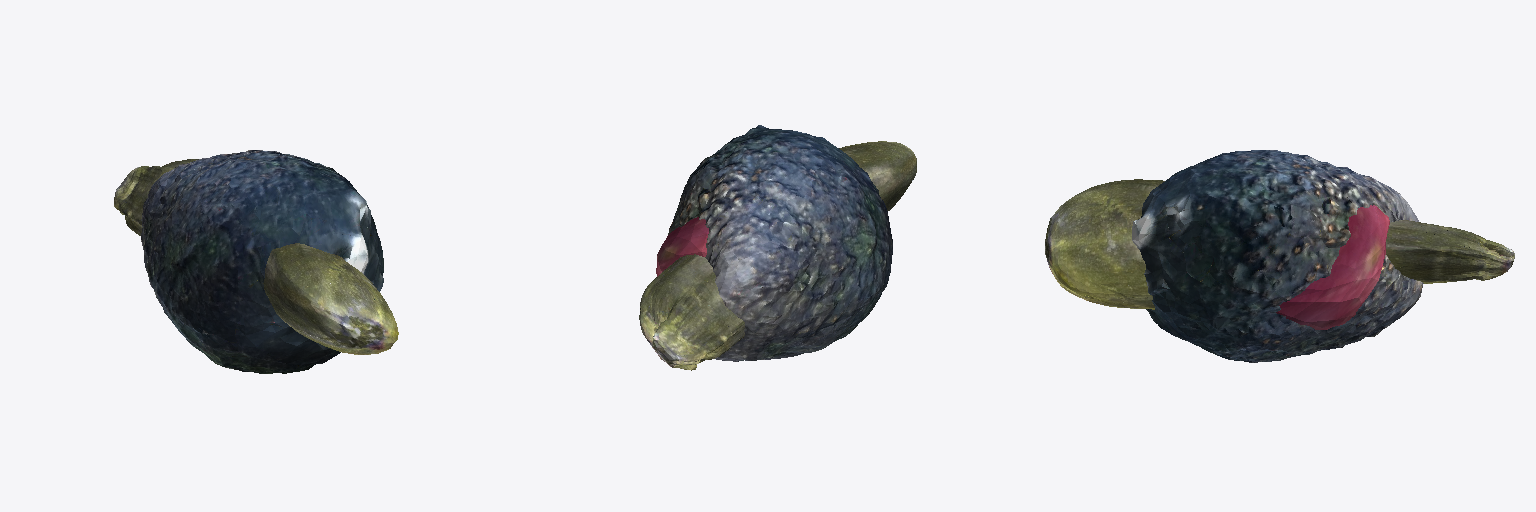
The picture shows the model from 3 angles: view 1: azimuth 30°, elevation 25°; view 2: azimuth 150°, elevation 25°; view 3: azimuth 270°, elevation 25°; orthographic projection.
Parts seen in each view (by area): view 1: Grilled_Red_potato_avocado; view 2: Grilled_Red_potato_avocado; view 3: Grilled_Red_potato_avocado.
Boxes of the visible parts, x1,y1,x2,y2 form: Grilled_Red_potato_avocado: [114, 150, 398, 373]; Grilled_Red_potato_avocado: [639, 125, 916, 370]; Grilled_Red_potato_avocado: [1045, 150, 1514, 362].
Bounding box in the file's own units: 0.9769 × 0.955 × 2.07.
Materials: 3 (1 with a texture image).